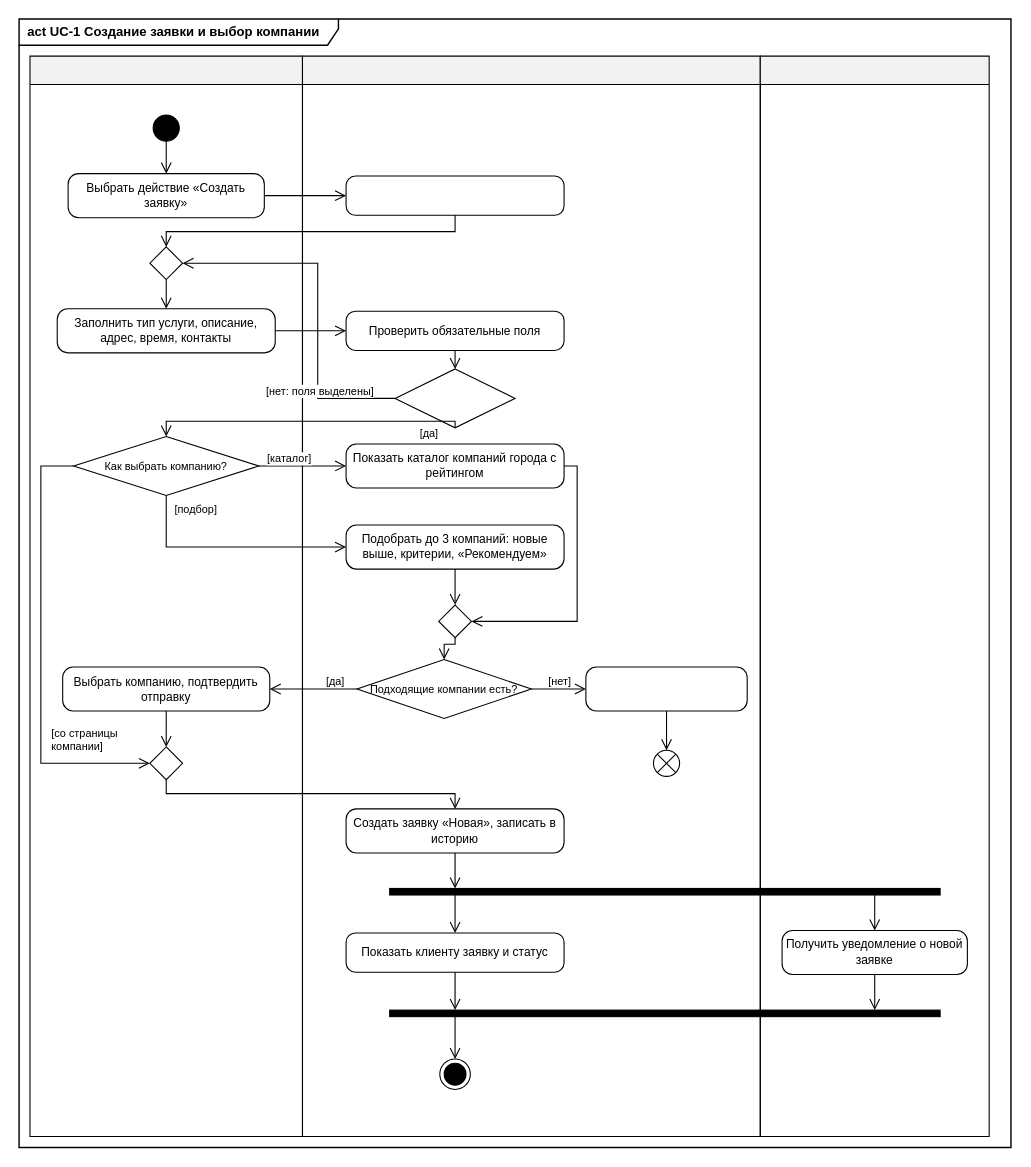
This 1031x1167 diagram has some shape labels left out. Here are the shapes that lost their labels. From the top down, the box of each, then its label:
(345, 175, 564, 215): Отобразить форму заявки
(394, 368, 515, 428): Поля заполнены?
(29, 55, 302, 1137): Клиент
(301, 55, 760, 1137): Система
(759, 55, 989, 1137): Диспетчер компании
(585, 666, 747, 711): Сообщить: изменить адрес или тип услуги
